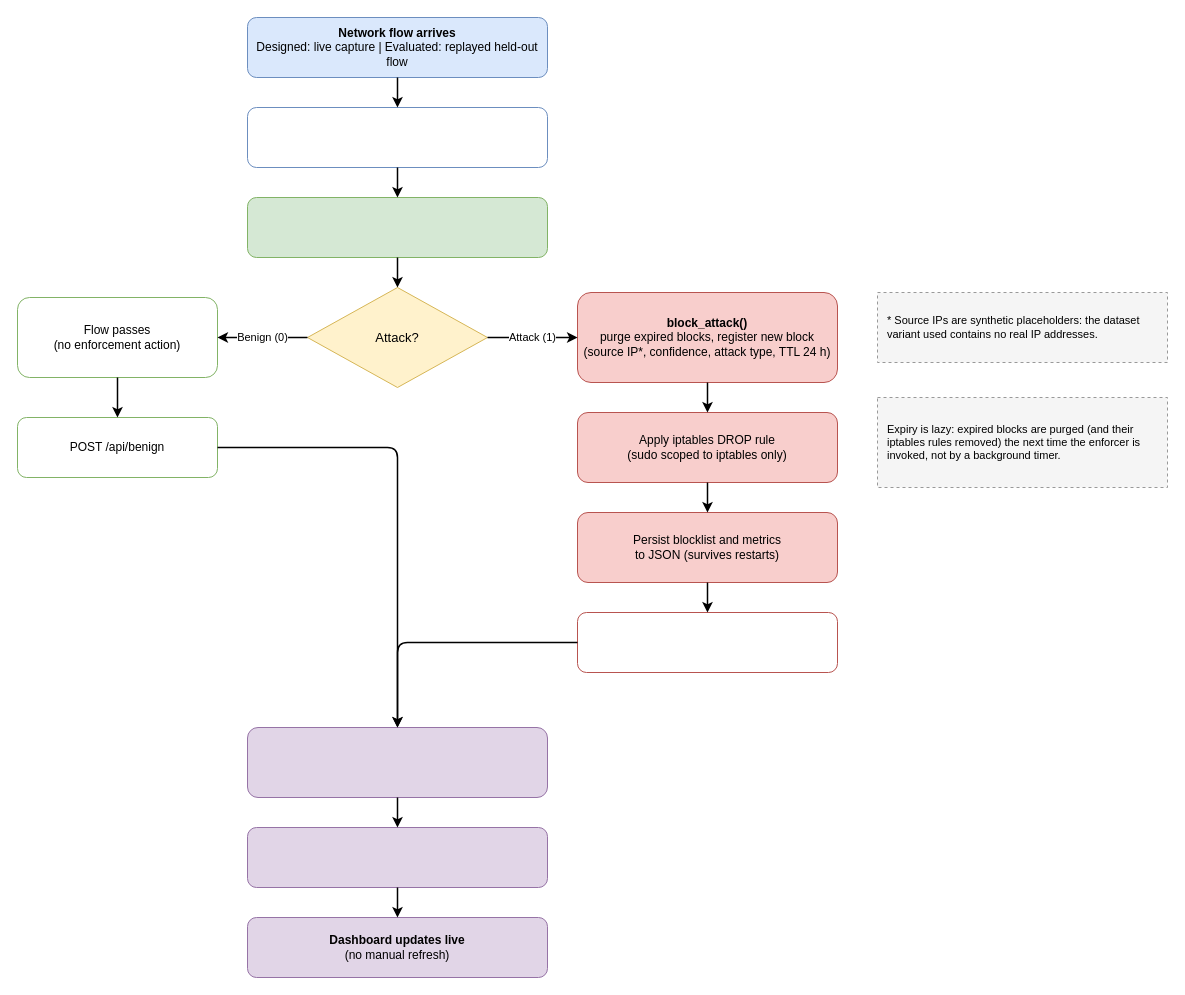
The diagram is 1185 pixels wide and 995 high, and some of its shapes have lost their labels. The shapes that lost their labels are listed below. From the top down, each one's box as (x1, y1, x2, y2) in pixels, then its label:
(246, 106, 548, 168): Feature vector (78 flow statistics)
(246, 196, 548, 258): FlowClassifier.predict() returns (label, confidence)
(576, 612, 838, 672): POST /api/alert
(246, 726, 548, 798): FastAPI backend updates counters and alert history (last 100)
(246, 826, 548, 888): broadcast_update() over WebSocket /ws
